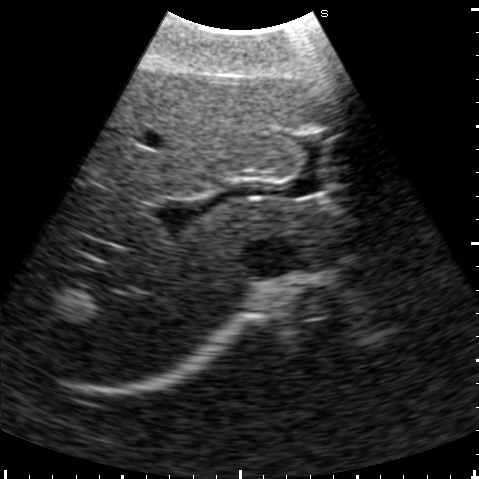IVC: (240, 239, 295, 278)
S4: (83, 71, 335, 198)
Tumor: (51, 290, 94, 322)
